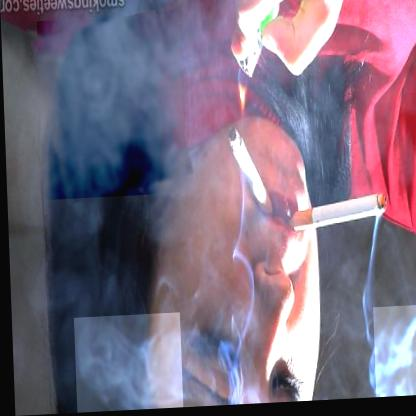smoke: (37, 16, 185, 201), (71, 314, 180, 413), (370, 309, 416, 401)
